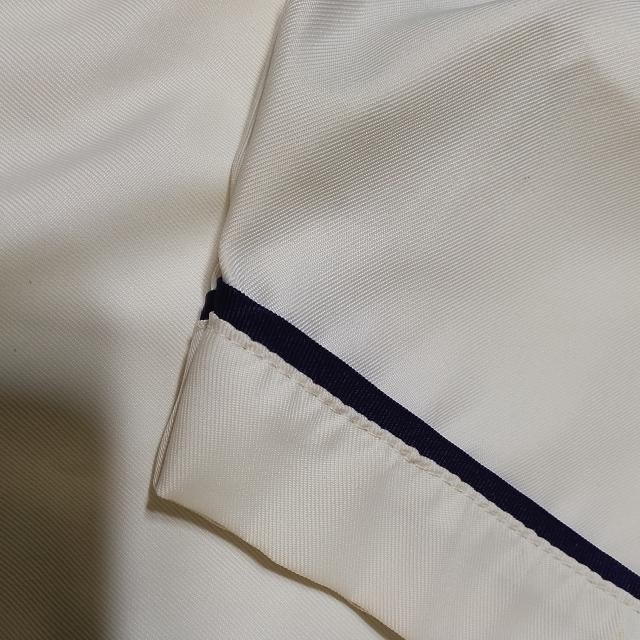education_male_uniform: (77, 59, 640, 640)
